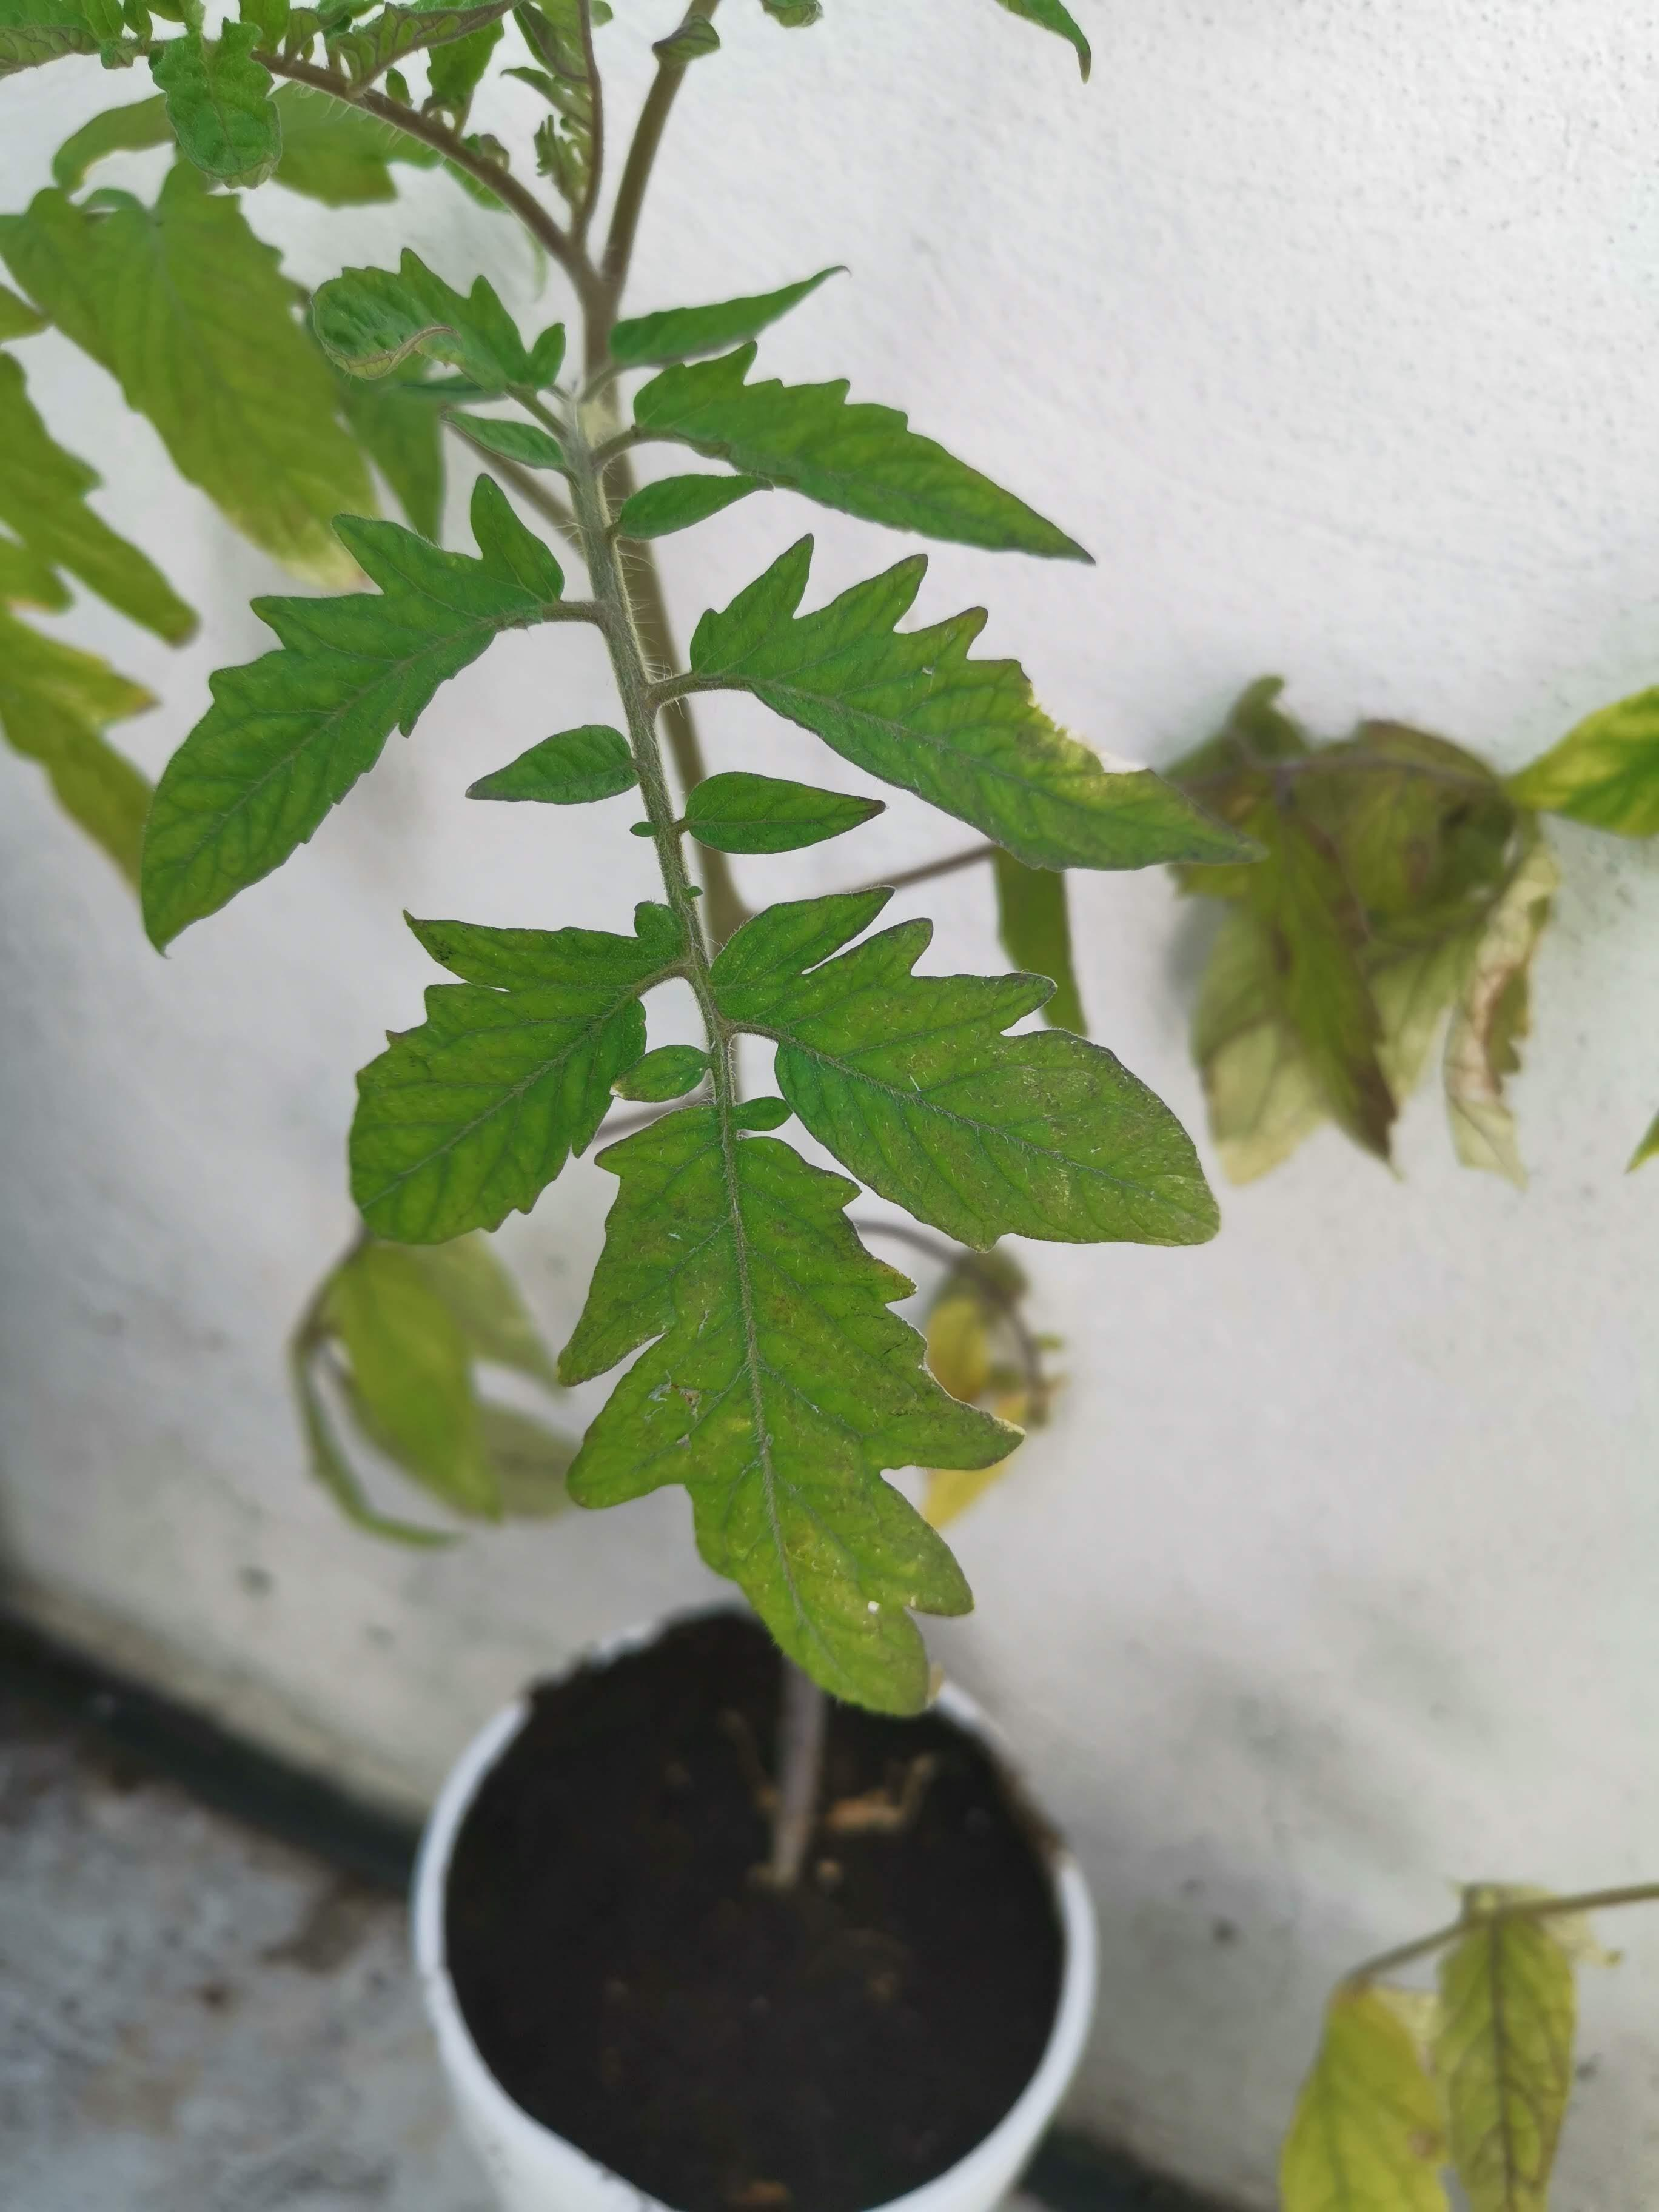Rugose leaf: (556, 1099, 1028, 1716), (688, 533, 1269, 873), (708, 887, 1223, 1252), (349, 902, 683, 1245), (631, 338, 1096, 568), (310, 247, 565, 402), (148, 19, 284, 188), (613, 472, 774, 538)
Rugose stem: (258, 51, 580, 273)
